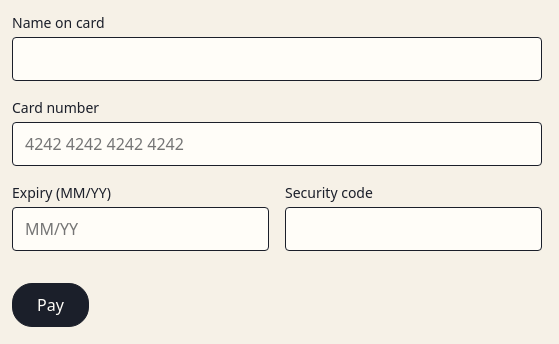
Scenario: CardForm input helpers › pads a first digit above 1 with a zero and slash
The width and height of the screenshot is (559, 344).
Type "4" into the field labelled "Expiry (MM/YY)" at (140, 229), box left=12, top=207, right=269, bottom=251
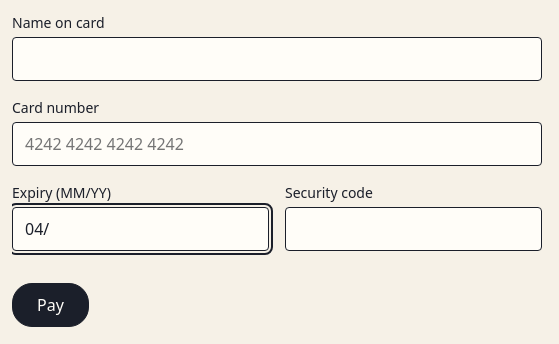
Check: the field labelled "Expiry (MM/YY)" holds "04/", box left=12, top=207, right=269, bottom=251
